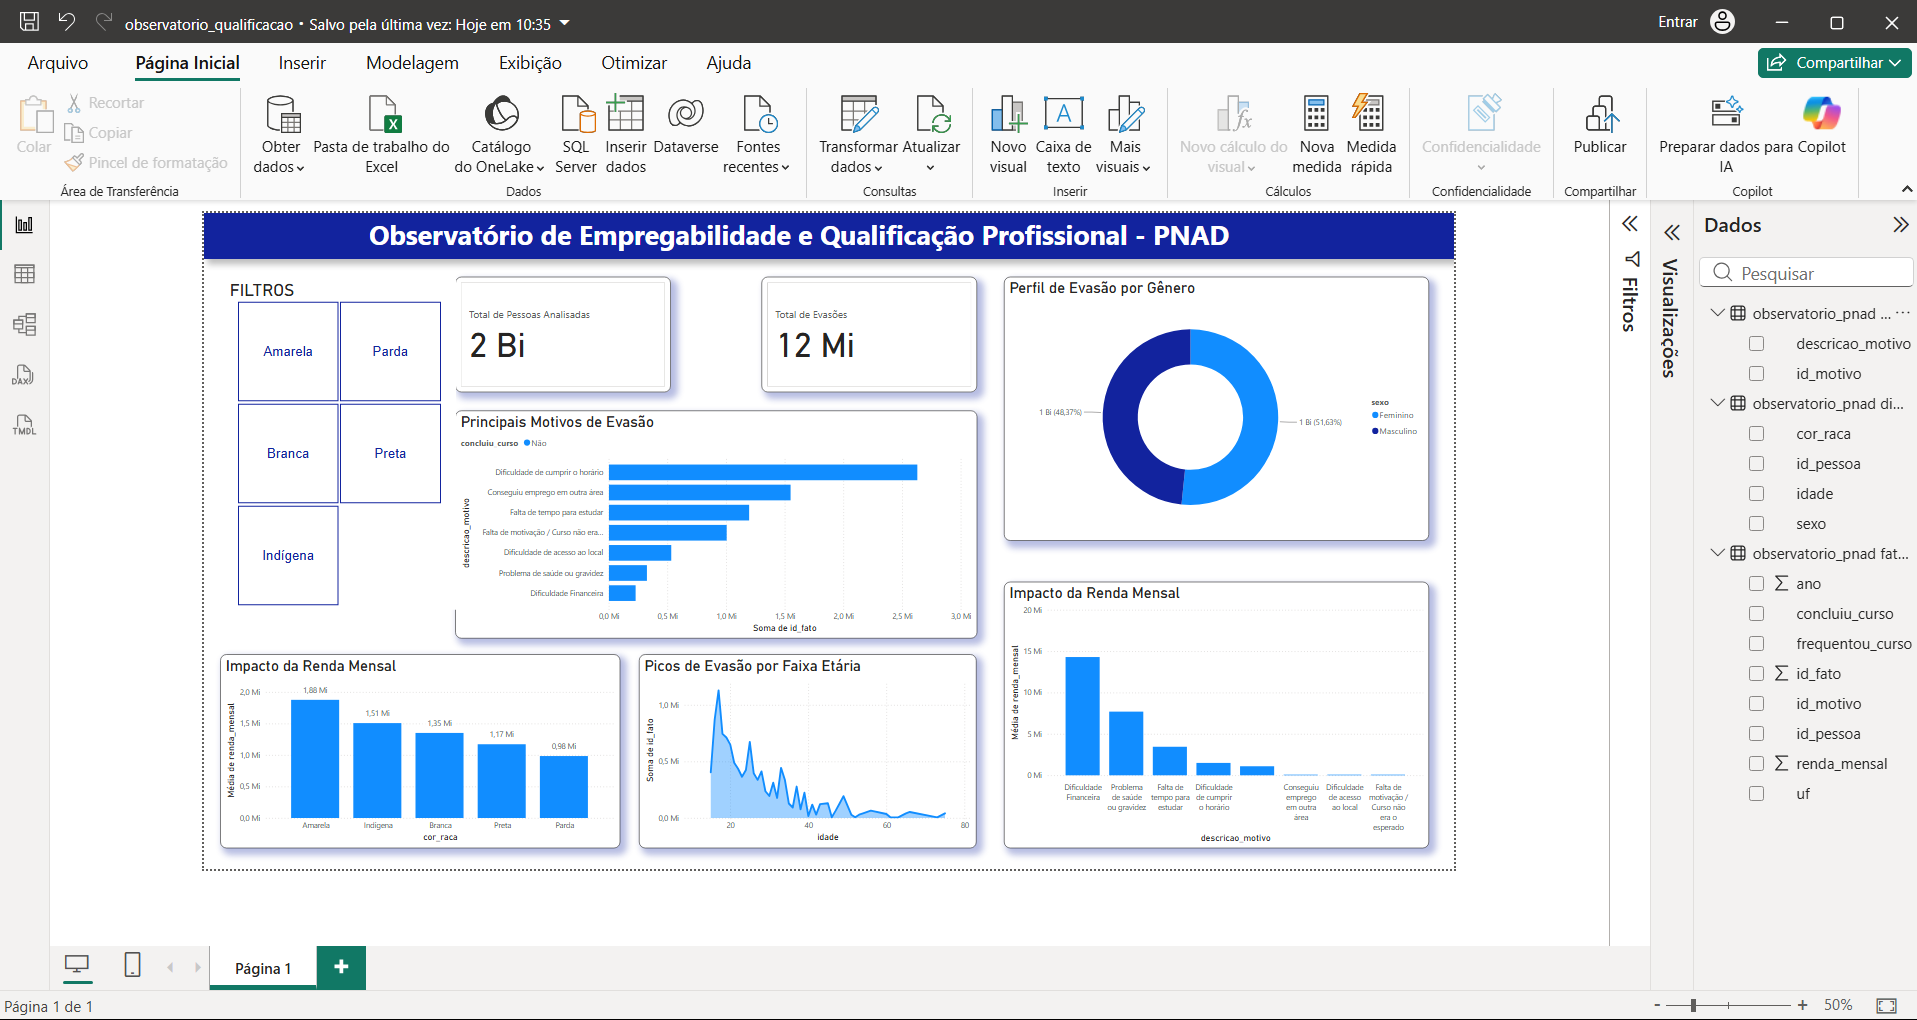

Layout of this report page (visuals, bound fields, positions):
{"tool":"powerbi","page":{"name":"Página 1","canvas":[2000,1050],"ordinal":0},"visuals":[{"type":"textbox","box":[0,0,2000,73.3],"z":0},{"type":"barChart","title":"Principais Motivos de Evasão","fields":{"Category":["observatorio_pnad dim_motivo_evasao.descricao_motivo"],"Y":["Sum(observatorio_pnad fato_qualificacao.id_fato)"],"Series":["observatorio_pnad fato_qualificacao.concluiu_curso"]},"box":[402.5,315,835,365],"z":1000},{"type":"cardVisual","fields":{"Data":["Sum(observatorio_pnad fato_qualificacao.id_fato)"]},"box":[402.5,102.5,345,185],"z":2000},{"type":"donutChart","title":"Perfil de Evasão por Gênero","fields":{"Category":["observatorio_pnad dim_pessoa.sexo"],"Y":["Sum(observatorio_pnad fato_qualificacao.id_fato)"]},"box":[1280,102.5,680,422.5],"z":3000},{"type":"slicer","fields":{"Values":["observatorio_pnad dim_pessoa.cor_raca"]},"box":[27.5,102.5,375,532.5],"z":4000},{"type":"areaChart","title":"Picos de Evasão por Faixa Etária","fields":{"Category":["observatorio_pnad dim_pessoa.idade"],"Y":["Sum(observatorio_pnad fato_qualificacao.id_fato)"]},"box":[696.7,706.7,540,310],"z":5000},{"type":"lineClusteredColumnComboChart","title":"Impacto da Renda Mensal","fields":{"Category":["observatorio_pnad dim_pessoa.cor_raca"],"Y":["Avg(observatorio_pnad fato_qualificacao.renda_mensal)"]},"box":[26.7,706.7,640,310],"z":6000},{"type":"columnChart","title":"Impacto da Renda Mensal","fields":{"Category":["observatorio_pnad dim_motivo_evasao.descricao_motivo"],"Y":["Avg(observatorio_pnad fato_qualificacao.renda_mensal)"]},"box":[1280,590,680,426.7],"z":8000},{"type":"cardVisual","fields":{"Data":["Sum(observatorio_pnad fato_qualificacao.id_fato)"]},"box":[892.5,102.5,345,185],"z":8001}]}

Visuals, with their boxes on the page's 2000x1050 design canvas (x1, y1, x2, y2). These are canvas units, not pixel positions in the 1917x1020 screenshot, which may show the page scaled, cropped or inside an application window:
textbox: l=0, t=0, r=2000, b=73
"Principais Motivos de Evasão" barChart: l=402, t=315, r=1238, b=680
cardVisual - Sum(observatorio_pnad fato_qualificacao.id_fato): l=402, t=102, r=748, b=288
"Perfil de Evasão por Gênero" donutChart: l=1280, t=102, r=1960, b=525
slicer - observatorio_pnad dim_pessoa.cor_raca: l=28, t=102, r=402, b=635
"Picos de Evasão por Faixa Etária" areaChart: l=697, t=707, r=1237, b=1017
"Impacto da Renda Mensal" lineClusteredColumnComboChart: l=27, t=707, r=667, b=1017
"Impacto da Renda Mensal" columnChart: l=1280, t=590, r=1960, b=1017
cardVisual - Sum(observatorio_pnad fato_qualificacao.id_fato): l=892, t=102, r=1238, b=288
